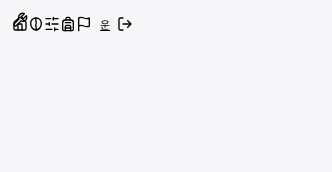
AppNav 메뉴 구분 › 관리자에게는 관리자 메뉴를 주 메뉴와 따로 보여 준다
The width and height of the screenshot is (332, 172).
Step 1. Click the button named "관리자 메뉴" → (20, 20), box [12,12,28,28]
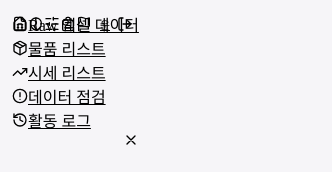
expect the link "Raw 엑셀 데이터" is shown: met, box [12,12,139,36]
expect the link "물품 리스트" is shown: met, box [12,40,106,58]
expect the link "시세 리스트" is shown: met, box [12,64,106,82]
